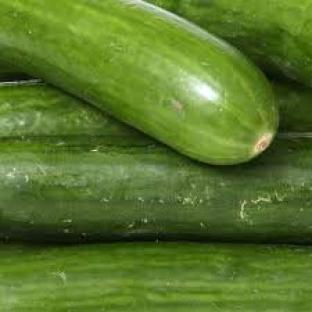Cucumber: (0, 136, 311, 244), (0, 243, 311, 311), (0, 81, 142, 137), (272, 81, 311, 134), (0, 63, 30, 81)
